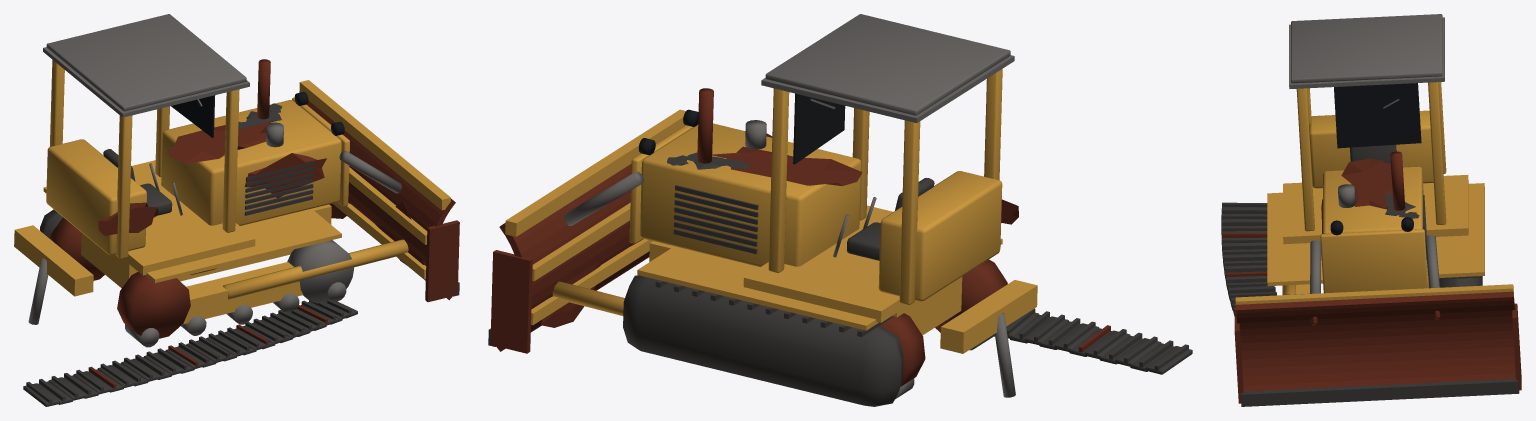
Rendered from dozer.glb.
3 views of the same model, side by side, from view 1: azimuth 30°, elevation 25°; view 2: azimuth 150°, elevation 25°; view 3: azimuth 270°, elevation 25° (orthographic). The views are drawn at different scales.
Parts seen in each view (by area): view 1: rops_roof, hood, fuel_tank, cab_deck, fender_-1, blade, sprocket_-9, blade_top, track_frame_-9, push_arm_-1, ripper_frame, end_bit_-1 (+21 smaller); view 2: track_far, hood, rops_roof, fuel_tank, cab_deck, blade, fender_1, end_bit_1, blade_top, ripper_frame, rops_0_1, rops_-14_1 (+17 smaller); view 3: blade, rops_roof, radiator_guard, pane_cracked, cutting_edge, cab_deck, hood, fuel_tank, fender_1, fender_-1, blade_top, rust_1 (+12 smaller).
Part boxes in pixels (<box>): rops_roof: <box>46,14,246,111</box>; hood: <box>161,100,341,225</box>; fuel_tank: <box>46,139,146,255</box>; cab_deck: <box>123,161,255,275</box>; fender_-1: <box>145,209,341,283</box>; blade: <box>306,101,455,300</box>; sprocket_-9: <box>117,272,190,338</box>; blade_top: <box>299,80,450,210</box>; track_frame_-9: <box>182,262,303,324</box>; push_arm_-1: <box>223,239,408,299</box>; ripper_frame: <box>14,225,93,296</box>; end_bit_-1: <box>425,220,459,302</box>; track_far: <box>623,275,903,406</box>; hood: <box>640,123,861,266</box>; rops_roof: <box>765,14,1010,115</box>; fuel_tank: <box>878,171,1002,301</box>; cab_deck: <box>743,205,915,322</box>; blade: <box>496,163,649,351</box>; fender_1: <box>637,247,878,330</box>; end_bit_1: <box>490,250,532,353</box>; blade_top: <box>505,109,685,236</box>; ripper_frame: <box>940,280,1037,353</box>; rops_0_1: <box>768,88,789,272</box>; rops_-14_1: <box>899,120,920,304</box>; blade: <box>1235,291,1515,391</box>; rops_roof: <box>1291,14,1442,83</box>; radiator_guard: <box>1320,229,1427,293</box>; pane_cracked: <box>1334,83,1421,148</box>; cutting_edge: <box>1240,379,1519,406</box>; cab_deck: <box>1283,175,1468,244</box>; hood: <box>1323,166,1423,233</box>; fuel_tank: <box>1309,110,1433,188</box>; fender_1: <box>1427,183,1484,277</box>; fender_-1: <box>1267,192,1322,286</box>; blade_top: <box>1235,284,1513,304</box>; rust_1: <box>1341,158,1392,209</box>.
Size of the model in its own units: 5.66 by 3.26 by 3.56.
